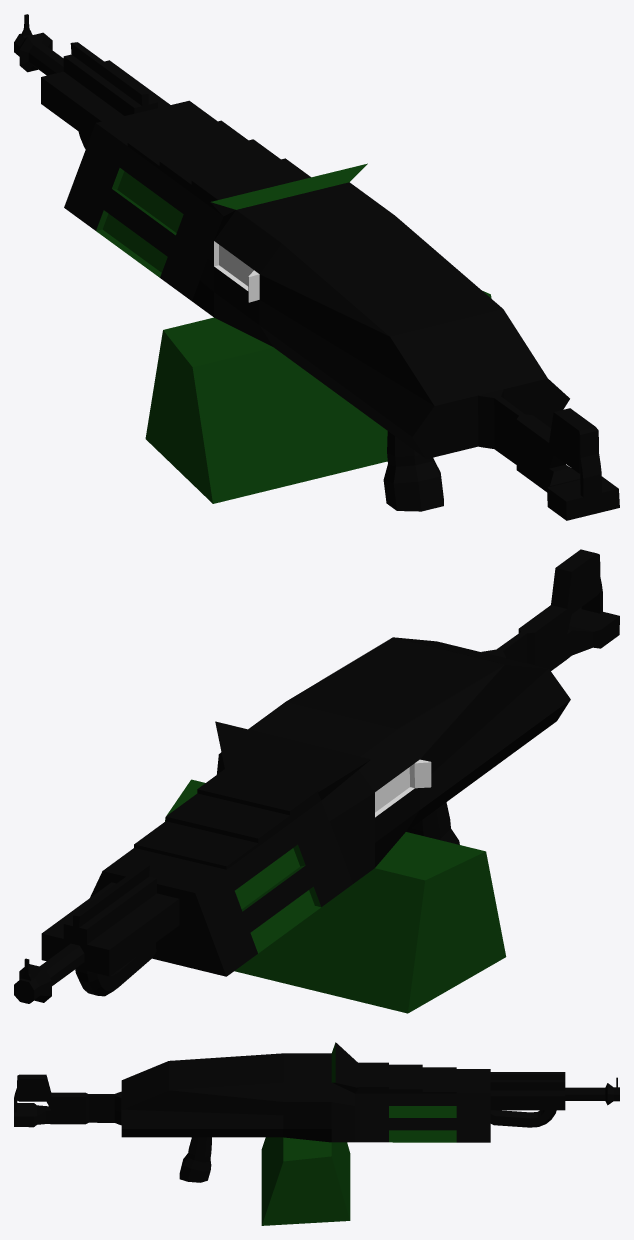
The model's file is Gun4.fbx.
3 views of the same model, one above another, from view 1: azimuth 30°, elevation 25°; view 2: azimuth 150°, elevation 25°; view 3: azimuth 270°, elevation 25° (orthographic). The views are drawn at different scales.
Visible parts, largest first — view 1: Cube.001; view 2: Cube.001; view 3: Cube.001.
Part boxes in pixels (bbox=[...]): Cube.001: bbox=[14, 14, 619, 520]; Cube.001: bbox=[14, 549, 619, 1013]; Cube.001: bbox=[14, 1042, 619, 1225].
Size of the model in its own units: 982 by 738 by 3264.
